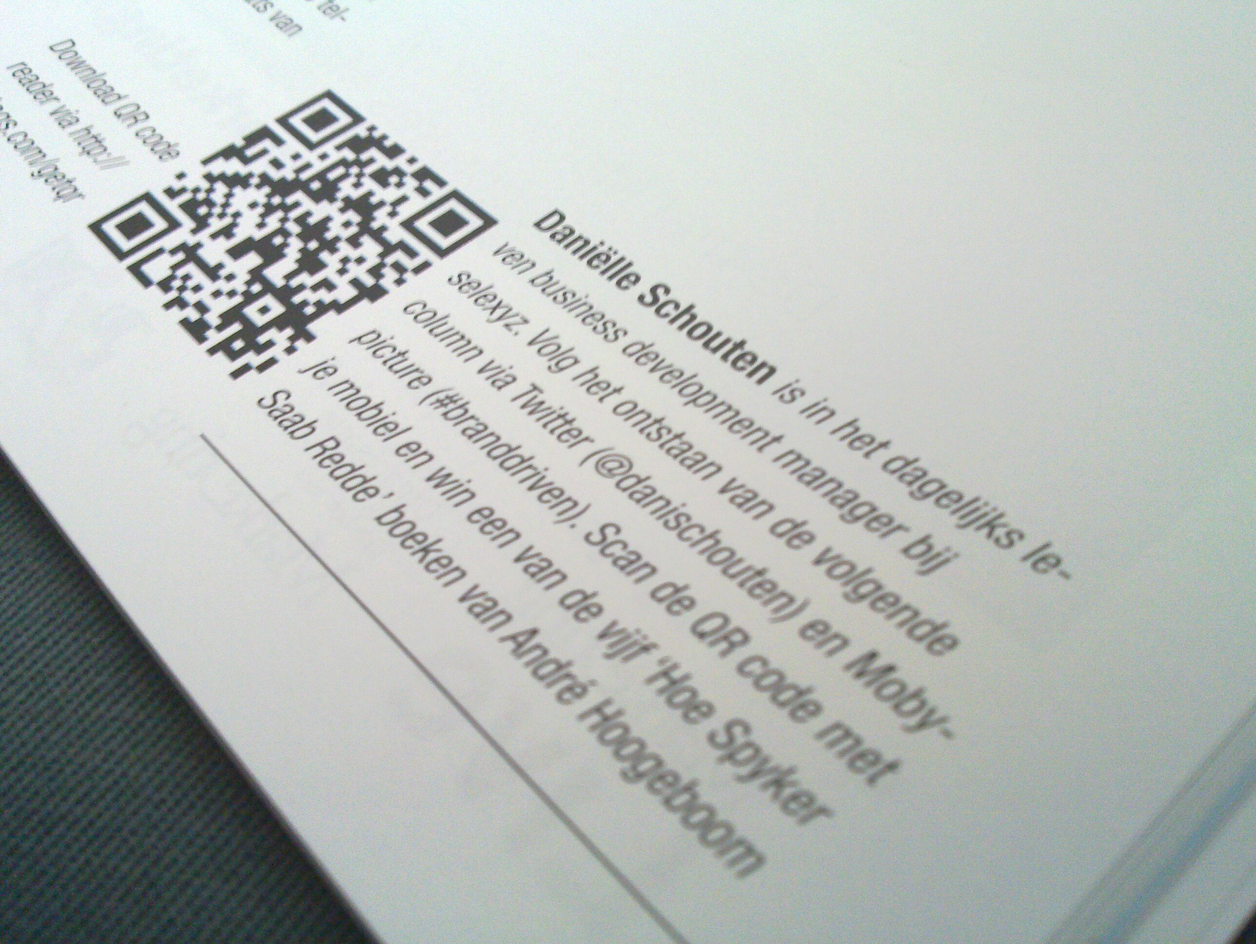QR-CODE: (87, 89, 498, 387)
